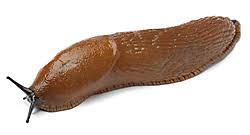slug: (8, 17, 242, 123)
